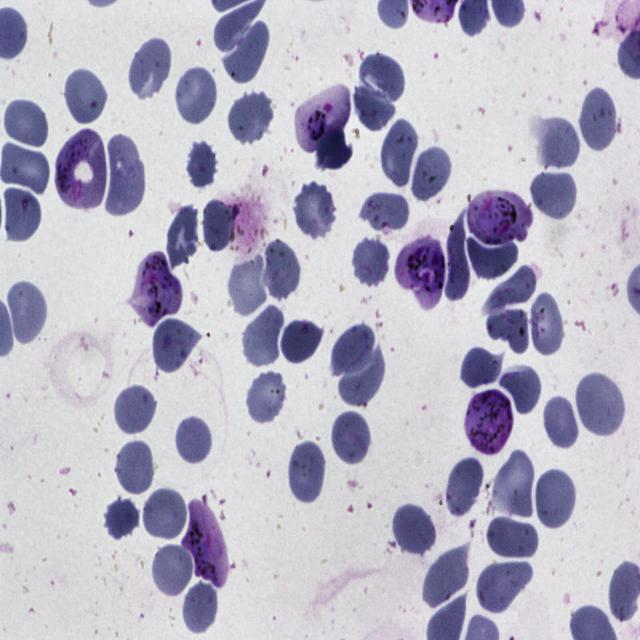difficult: (54, 130, 108, 212), (468, 189, 534, 244)
gametocyte: (463, 387, 515, 457)
red blood cell: (574, 369, 627, 440), (103, 130, 145, 219), (489, 446, 536, 524), (420, 544, 472, 612), (128, 34, 174, 104), (4, 274, 48, 346), (475, 562, 533, 616), (380, 114, 420, 192), (62, 64, 110, 128), (577, 82, 619, 155), (151, 315, 201, 376), (534, 465, 578, 533), (258, 235, 302, 303), (241, 300, 285, 368), (287, 436, 328, 508), (481, 262, 538, 313), (444, 454, 487, 521), (174, 64, 219, 128), (224, 21, 270, 83), (163, 199, 201, 273), (530, 166, 580, 222), (390, 500, 437, 559), (292, 179, 336, 242), (339, 347, 384, 408), (226, 89, 274, 146), (141, 485, 189, 542), (244, 367, 290, 426), (1, 96, 52, 149), (536, 115, 584, 171), (411, 144, 454, 205), (114, 437, 157, 498), (112, 380, 158, 437), (444, 205, 471, 302), (329, 409, 373, 468), (150, 542, 196, 598), (228, 254, 268, 317), (357, 51, 405, 103), (330, 324, 376, 378), (2, 186, 44, 244), (201, 195, 240, 256), (467, 234, 518, 280), (541, 394, 581, 452), (350, 234, 391, 290), (485, 516, 539, 558), (530, 292, 564, 357), (351, 82, 396, 131), (280, 319, 326, 366), (174, 412, 214, 466), (498, 365, 542, 413), (179, 580, 218, 634), (459, 344, 504, 390), (486, 307, 530, 354), (362, 188, 409, 231), (103, 492, 141, 540), (186, 141, 220, 187)
schizont: (395, 234, 448, 309)
trophozoite: (181, 499, 229, 590), (294, 82, 354, 154), (130, 252, 180, 331)
